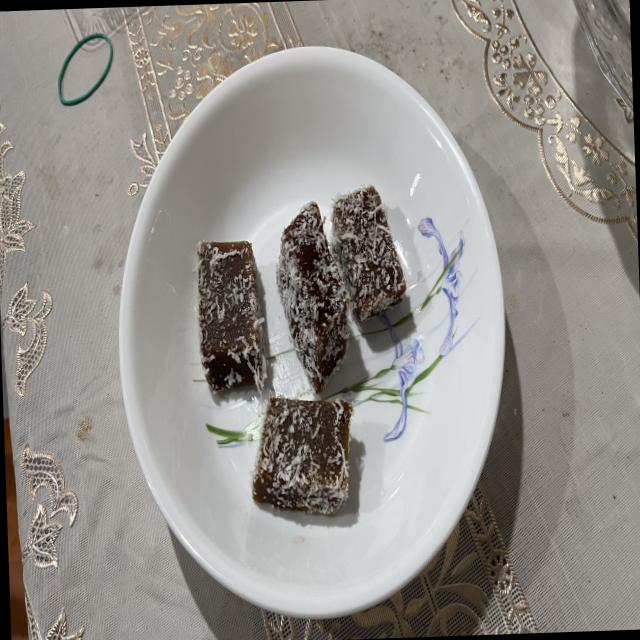kaswi: (276, 200, 349, 393), (252, 397, 352, 513), (197, 240, 266, 390), (331, 185, 405, 321)
